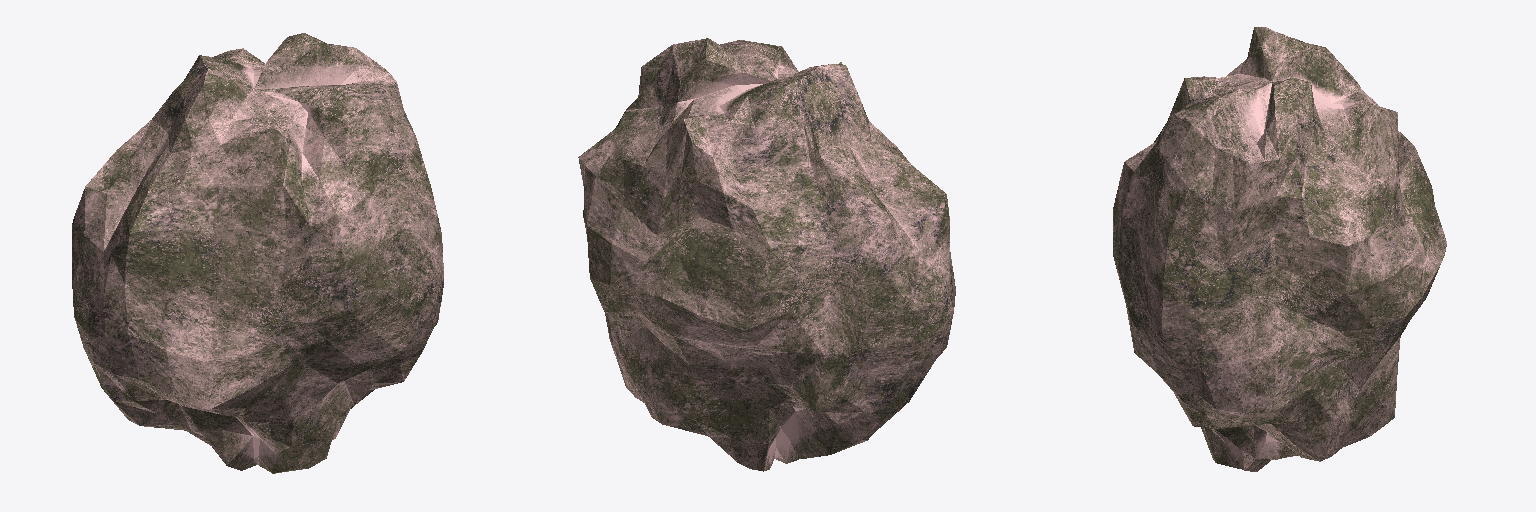
The picture shows the model from 3 angles: view 1: azimuth 30°, elevation 25°; view 2: azimuth 150°, elevation 25°; view 3: azimuth 270°, elevation 25°; orthographic projection.
Parts seen in each view (by area): view 1: PBR_-_Metallic_Roughness; view 2: PBR_-_Metallic_Roughness; view 3: PBR_-_Metallic_Roughness.
Part boxes in pixels (x1,y1,x2,y2): PBR_-_Metallic_Roughness: (72, 33, 443, 473); PBR_-_Metallic_Roughness: (578, 38, 955, 471); PBR_-_Metallic_Roughness: (1113, 27, 1446, 471).
Bounding box in the file's own units: 2.64 × 3.03 × 2.24.
1 materials, 1 textured.